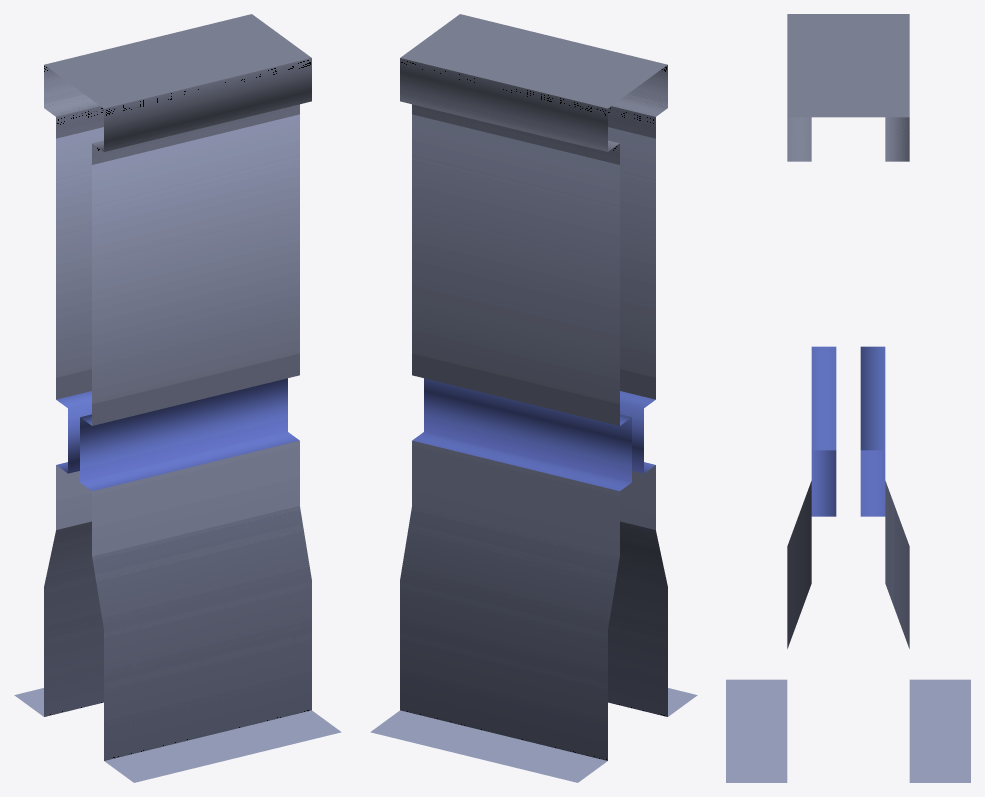
The model's file is wall.glb.
3 renders of one model, left to right at view 1: azimuth 30°, elevation 25°; view 2: azimuth 150°, elevation 25°; view 3: azimuth 270°, elevation 25°, orthographic. The views are drawn at different scales.
Parts seen in each view (by area): view 1: wall; view 2: wall; view 3: wall.
Part boxes in pixels (x1,y1,x2,y2): wall: [14, 14, 341, 782]; wall: [370, 14, 697, 782]; wall: [726, 14, 970, 782].
Size of the model in its own units: 1 by 3 by 1.
Materials: 1 (1 with a texture image).
